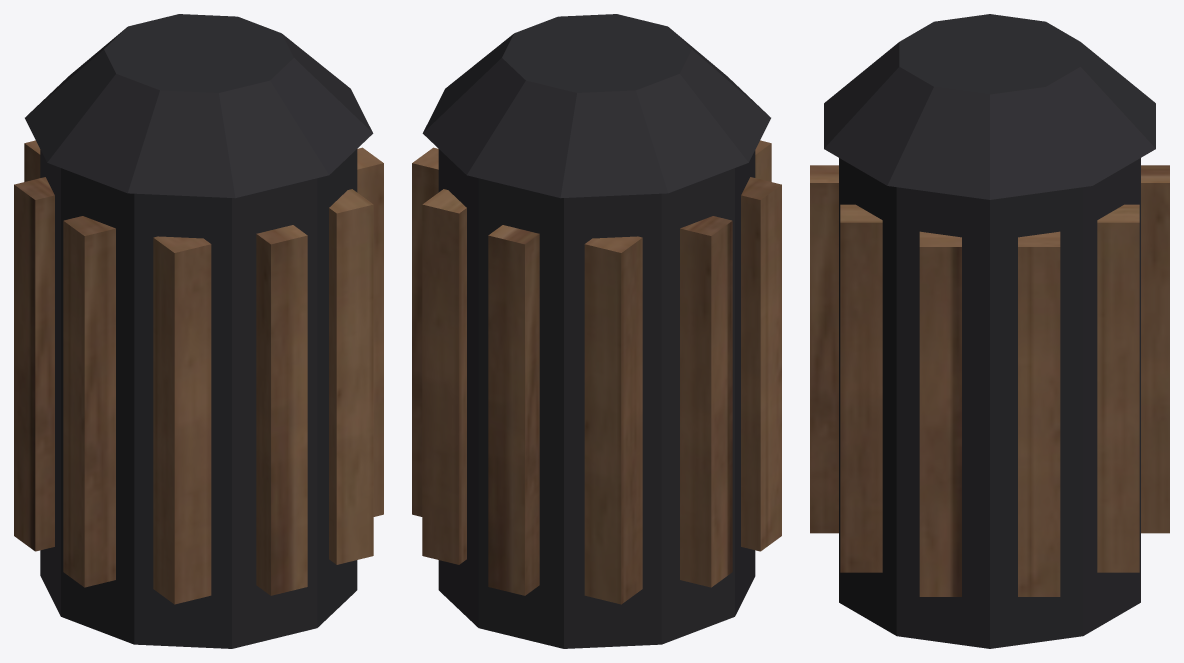
The model's file is town_trash_can 2.gltf.
The picture shows the model from 3 angles, left to right: view 1: azimuth 30°, elevation 25°; view 2: azimuth 150°, elevation 25°; view 3: azimuth 270°, elevation 25°; orthographic projection.
Parts seen in each view (by area): view 1: TownTrashCan_Slats, TownTrashCan_Can, TownTrashCan_Lid; view 2: TownTrashCan_Slats, TownTrashCan_Can, TownTrashCan_Lid; view 3: TownTrashCan_Slats, TownTrashCan_Can, TownTrashCan_Lid.
Boxes of the visible parts, x1=… form: TownTrashCan_Slats: x1=14, y1=140, x2=383, y2=604; TownTrashCan_Can: x1=40, y1=149, x2=357, y2=648; TownTrashCan_Lid: x1=25, y1=14, x2=373, y2=198; TownTrashCan_Slats: x1=412, y1=140, x2=781, y2=604; TownTrashCan_Can: x1=438, y1=149, x2=755, y2=648; TownTrashCan_Lid: x1=422, y1=14, x2=770, y2=198; TownTrashCan_Slats: x1=810, y1=165, x2=1169, y2=596; TownTrashCan_Can: x1=839, y1=158, x2=1140, y2=648; TownTrashCan_Lid: x1=824, y1=14, x2=1155, y2=199.
Size of what is drawn, in the model's own units: 0.66 by 1.1 by 0.68.
1 material, 1 textured.
